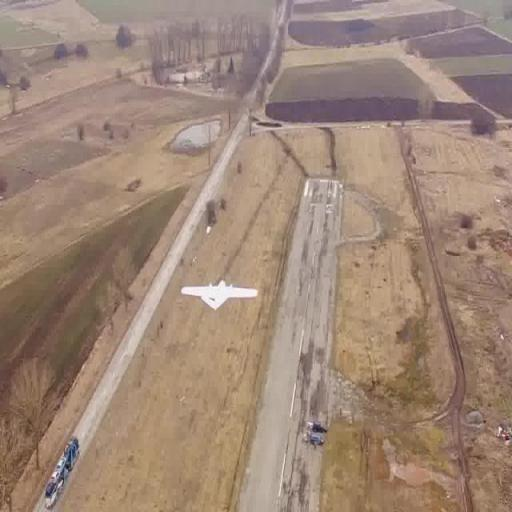uav: (179, 274, 262, 316)
